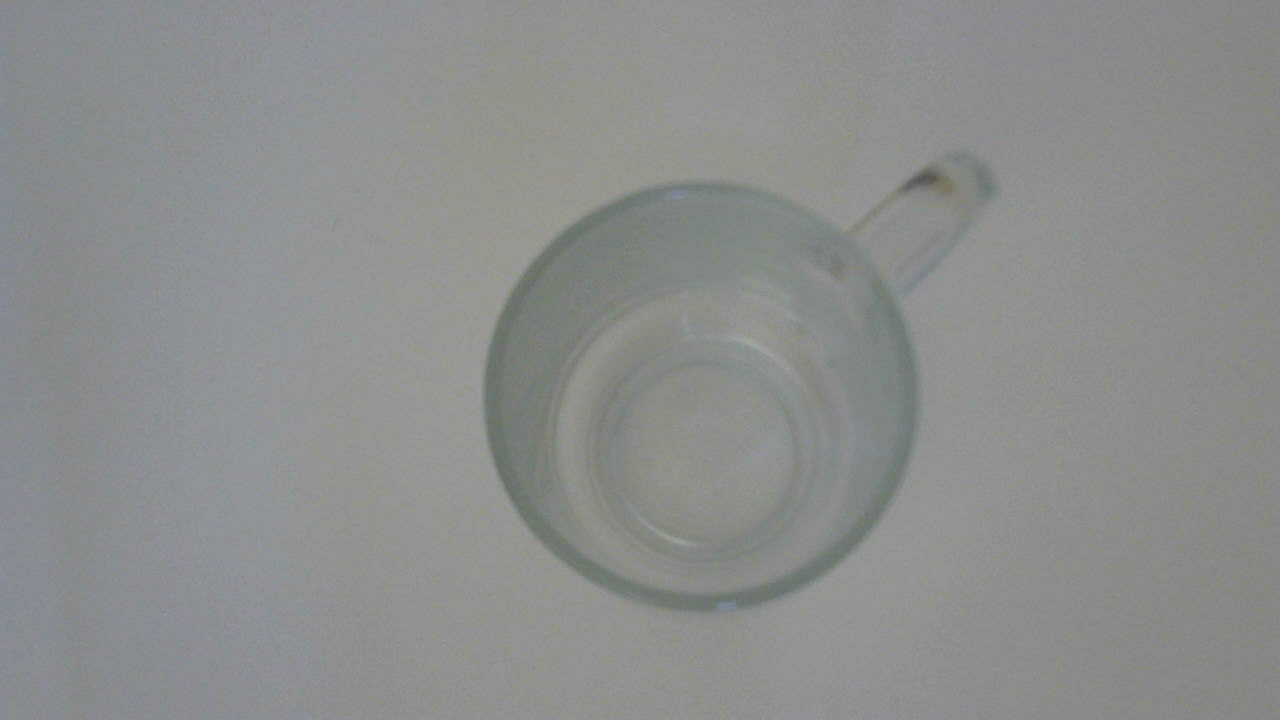Glass: (484, 139, 1052, 632)
